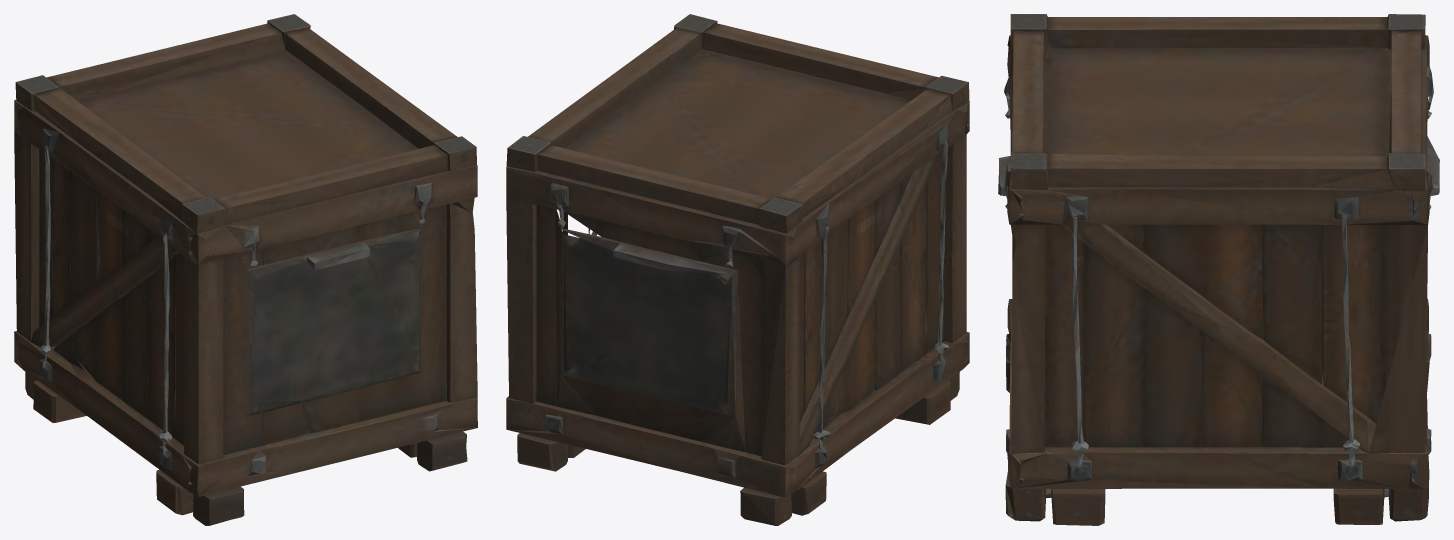
Rendered from caisse_bois.glb.
3 renders of one model, left to right at view 1: azimuth 30°, elevation 25°; view 2: azimuth 150°, elevation 25°; view 3: azimuth 270°, elevation 25°, orthographic. The views are drawn at different scales.
Bounding box in the file's own units: 1.67 × 1.7 × 1.9.
1 material, 1 textured.
